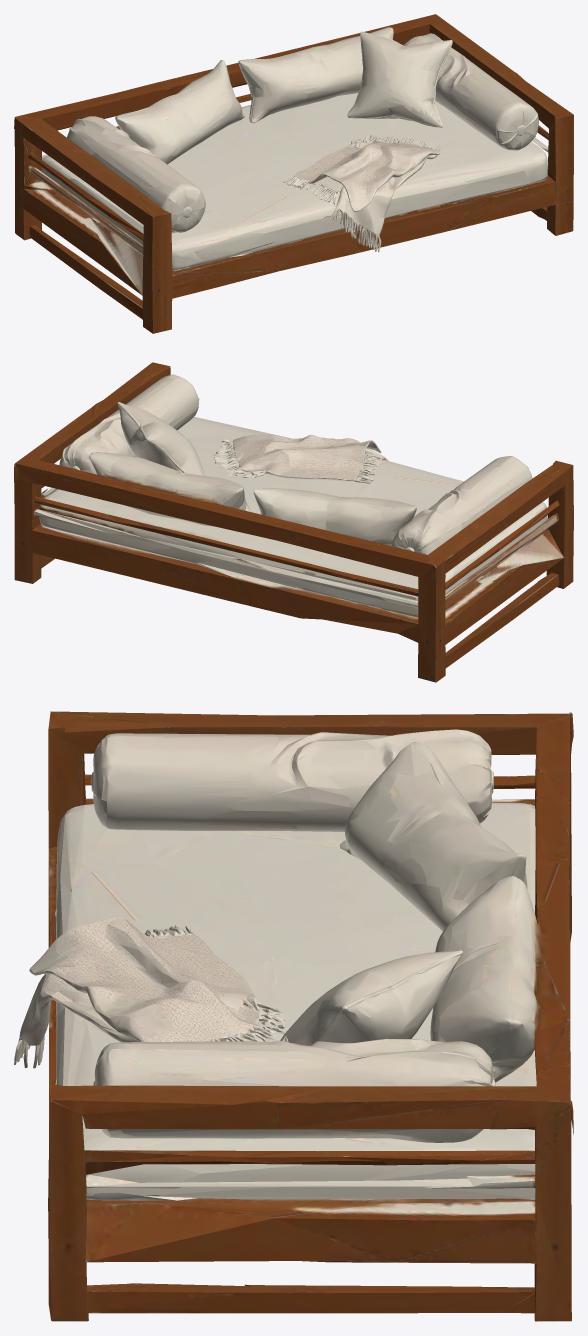
File: terracoBed.glb
3 renders of one model, top to bottom at view 1: azimuth 30°, elevation 25°; view 2: azimuth 150°, elevation 25°; view 3: azimuth 270°, elevation 25°, orthographic. The views are drawn at different scales.
Bounding box in the file's own units: 1.9 × 0.6275 × 1.16.
1 material, 1 textured.
